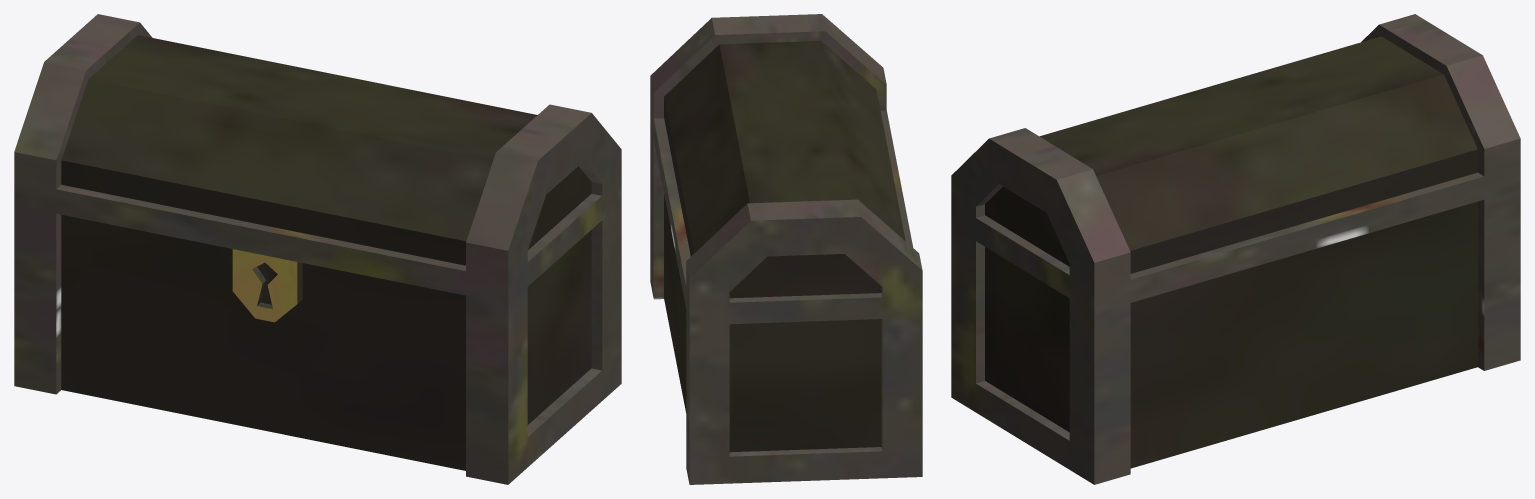
Rendered from cofre.obj.
3 views of the same model, side by side, from view 1: azimuth 30°, elevation 25°; view 2: azimuth 150°, elevation 25°; view 3: azimuth 270°, elevation 25° (orthographic). The views are drawn at different scales.
Visible parts, largest first — view 1: pasted__Chest1 group31; view 2: pasted__Chest1 group31; view 3: pasted__Chest1 group31.
Part boxes in pixels (x1=…): pasted__Chest1 group31: x1=14, y1=14, x2=621, y2=484; pasted__Chest1 group31: x1=650, y1=14, x2=922, y2=484; pasted__Chest1 group31: x1=951, y1=14, x2=1520, y2=484.
Size of the model in its own units: 2.36 by 1.47 by 2.68.
